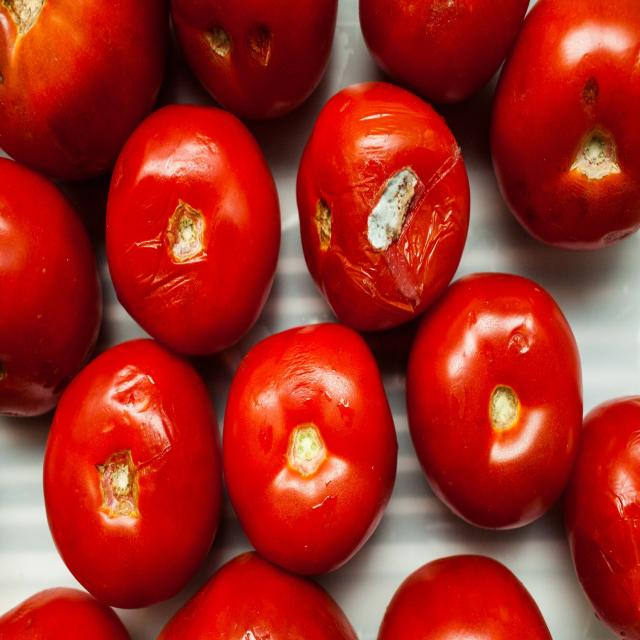kirmizi: (230, 299, 394, 571), (447, 269, 580, 533)
